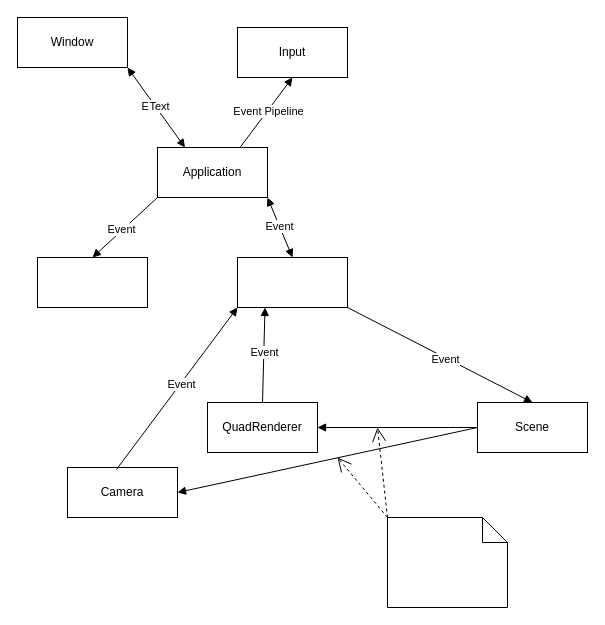
The diagram is 605 pixels wide and 625 high, and some of its shapes have lost their labels. The box of each missing label's shape, as (x1, y1, x2, y2) in pixels:
Renderer: (36, 256, 148, 308)
Scene Manager: (236, 256, 348, 308)
There are function calls that exist outside of the event pipeline: (386, 516, 508, 608)
